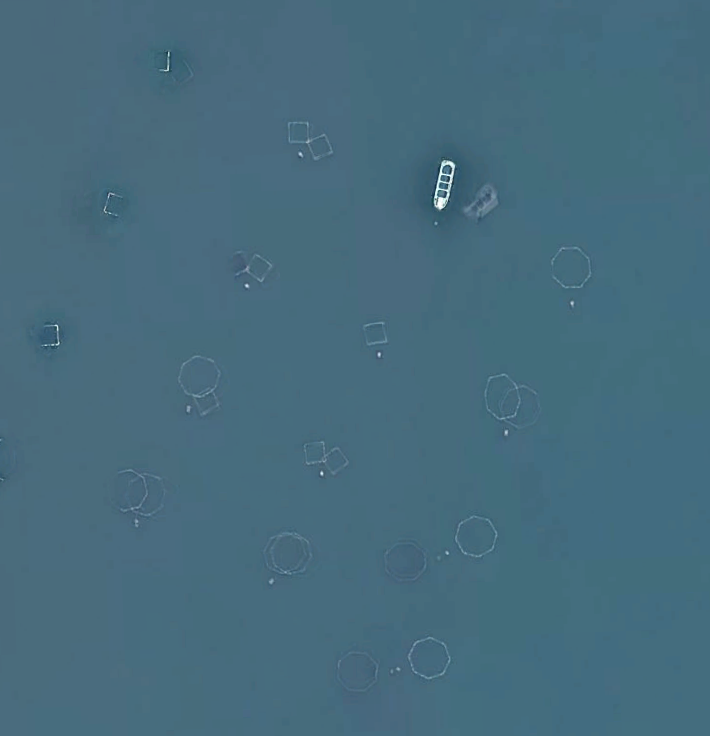octagon: (536, 234, 600, 300), (402, 632, 463, 691), (476, 367, 527, 429), (101, 460, 154, 518), (168, 350, 226, 400), (453, 507, 504, 563), (261, 528, 317, 579), (501, 382, 547, 438), (126, 473, 176, 524), (336, 643, 383, 694), (380, 535, 426, 581)
ship: (430, 154, 456, 218)
square: (351, 316, 401, 353), (300, 129, 341, 168), (33, 316, 70, 359), (243, 245, 279, 286), (284, 115, 320, 152), (318, 444, 354, 481), (215, 243, 251, 279), (98, 182, 133, 219), (295, 437, 334, 470), (186, 388, 222, 422)
